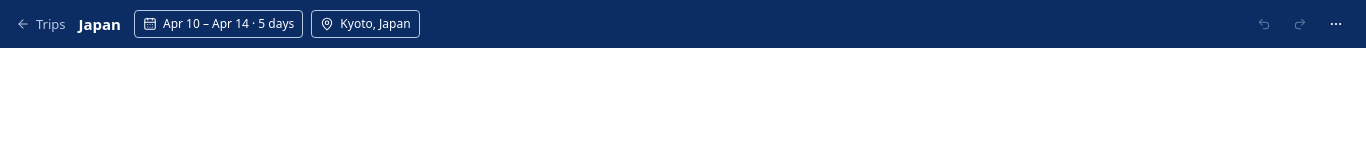
Scenario: TripHeader rename by clicking the name › Escape cancels without saving
Click the button with aria-label "Rename trip (Japan)" at (100, 24), box [74,14,126,34]
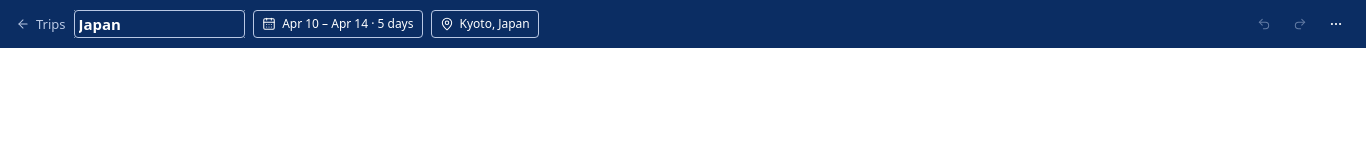
Type " trip" into the field named "Trip name" at (159, 24), box [74,10,245,38]
Then press Escape
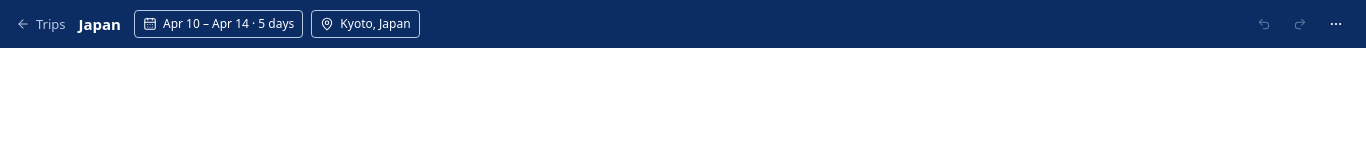
Check: the button with aria-label "Rename trip (Japan)" is shown, box [74,14,126,34]
